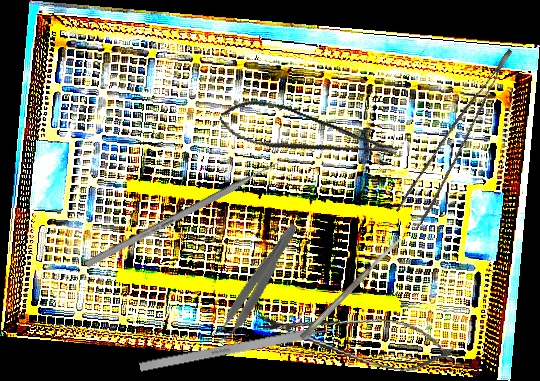Hook Surgical: (138, 322, 347, 372)
Micro Scissor: (214, 86, 401, 189), (250, 299, 460, 379)
Pusher: (84, 153, 291, 269)
Spatula Surgical: (299, 236, 403, 341)
Tissue Forceps: (387, 48, 540, 229), (208, 217, 303, 349)
